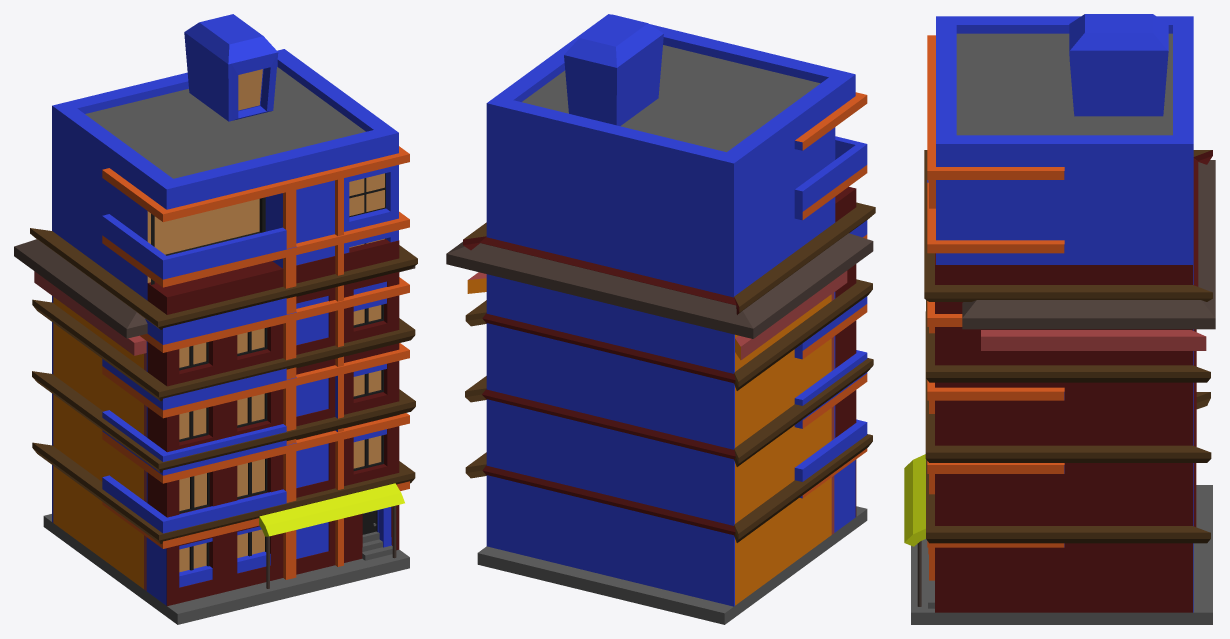
File: Hauses (2).fbx
3 views of the same model, side by side, from view 1: azimuth 30°, elevation 25°; view 2: azimuth 150°, elevation 25°; view 3: azimuth 270°, elevation 25° (orthographic). The views are drawn at different scales.
Parts seen in each view (by area): view 1: Hause_2_Cube.002, Hause_1_Cube.001, Hause_3_Cube.003; view 2: Hause_2_Cube.002, Hause_3_Cube.003, Hause_1_Cube.001; view 3: Hause_1_Cube.001, Hause_2_Cube.002, Hause_3_Cube.003.
Part boxes in pixels (x1=…): Hause_2_Cube.002: x1=52, y1=14, x2=409, y2=624; Hause_1_Cube.001: x1=30, y1=228, x2=417, y2=606; Hause_3_Cube.003: x1=14, y1=239, x2=415, y2=624; Hause_2_Cube.002: x1=486, y1=14, x2=867, y2=606; Hause_3_Cube.003: x1=446, y1=233, x2=873, y2=624; Hause_1_Cube.001: x1=463, y1=187, x2=875, y2=542; Hause_1_Cube.001: x1=911, y1=150, x2=1212, y2=624; Hause_2_Cube.002: x1=912, y1=14, x2=1193, y2=612; Hause_3_Cube.003: x1=904, y1=160, x2=1215, y2=612.
Bounding box in the file's own units: 248 × 405 × 206.
